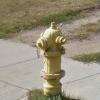Hydrant: (26, 15, 75, 100)
